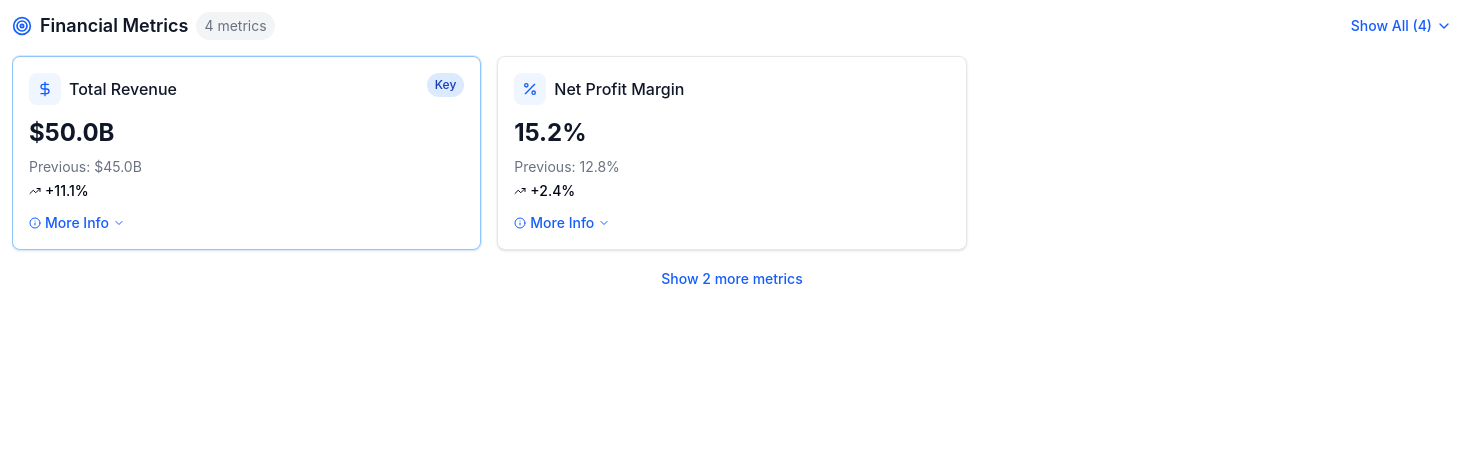
Test: FinancialMetricsGrid › expands to show all metrics when Show All is clicked
The width and height of the screenshot is (1464, 450).
Click the button "Show All (4)": (1401, 26) [1351,16,1452,36]
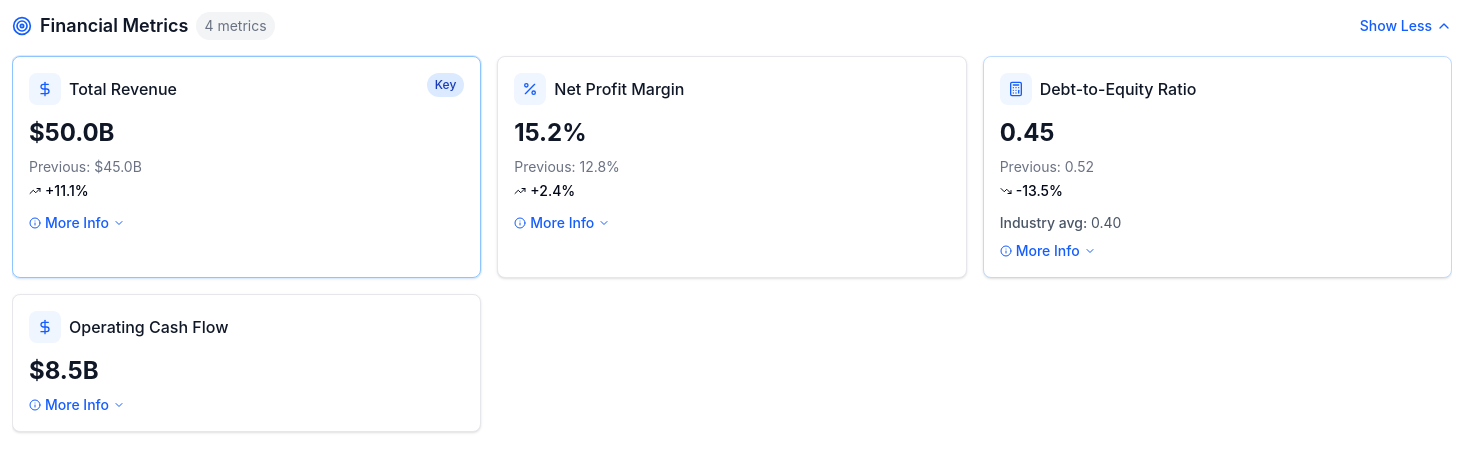
Result: the heading "Debt-to-Equity Ratio" is shown at [1040,77,1196,101]
Result: the heading "Operating Cash Flow" is shown at [69,315,228,339]
Result: the button "Show Less" is shown at [1360,16,1452,36]
